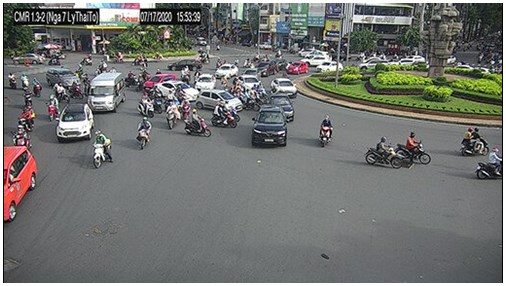xe_hoi: (3, 146, 37, 223), (254, 107, 287, 148), (57, 104, 93, 141), (196, 89, 244, 112), (157, 82, 199, 102), (46, 67, 81, 89), (269, 93, 294, 123), (269, 78, 297, 97), (144, 74, 177, 90), (236, 74, 263, 90), (196, 71, 216, 89), (356, 60, 388, 71), (216, 63, 238, 78), (256, 62, 278, 77), (167, 60, 203, 69), (300, 55, 329, 65), (285, 62, 307, 75), (315, 62, 342, 72)
xe_may: (364, 137, 403, 170), (398, 131, 430, 165), (183, 108, 212, 139), (477, 147, 503, 180), (462, 126, 488, 156), (94, 130, 113, 168), (209, 104, 238, 128), (137, 116, 151, 151), (240, 89, 261, 111), (138, 92, 155, 119), (14, 125, 32, 148), (320, 114, 331, 149), (19, 105, 35, 129), (54, 81, 70, 104), (167, 101, 179, 130), (69, 80, 84, 101), (151, 90, 163, 115), (48, 94, 57, 122), (21, 86, 34, 105), (123, 71, 139, 86), (32, 76, 42, 99), (95, 58, 108, 75), (182, 97, 190, 123), (76, 63, 88, 79), (81, 53, 93, 66), (131, 54, 143, 67), (20, 72, 29, 88), (9, 71, 16, 87)
